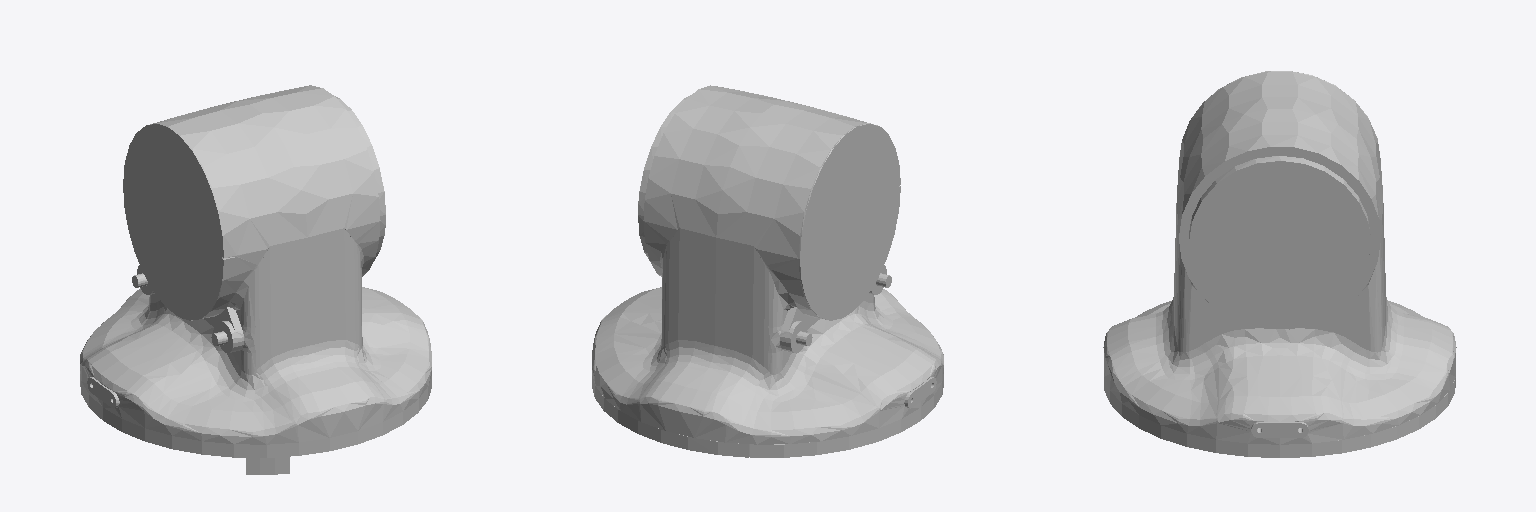
File: irb120joint1.obj
3 renders of one model, left to right at view 1: azimuth 30°, elevation 25°; view 2: azimuth 150°, elevation 25°; view 3: azimuth 270°, elevation 25°, orthographic.
Visible parts, largest first — view 1: irb120joint1; view 2: irb120joint1; view 3: irb120joint1.
Boxes of the visible parts, box(x1,y1,x2,y2) form: irb120joint1: box(80, 85, 431, 474); irb120joint1: box(592, 85, 943, 457); irb120joint1: box(1103, 71, 1456, 457).
Size of the model in its own units: 10.85 by 9.88 by 10.75.